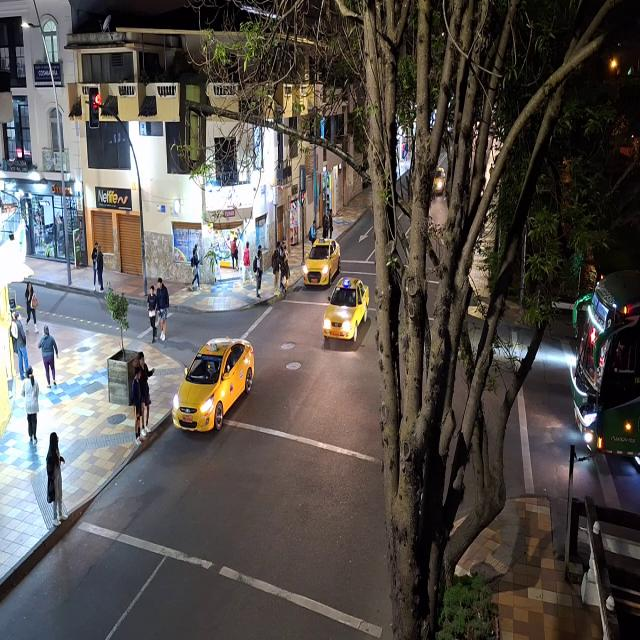BUS: (570, 274, 638, 459)
SED: (176, 340, 253, 433), (324, 279, 371, 342), (304, 241, 342, 287)
